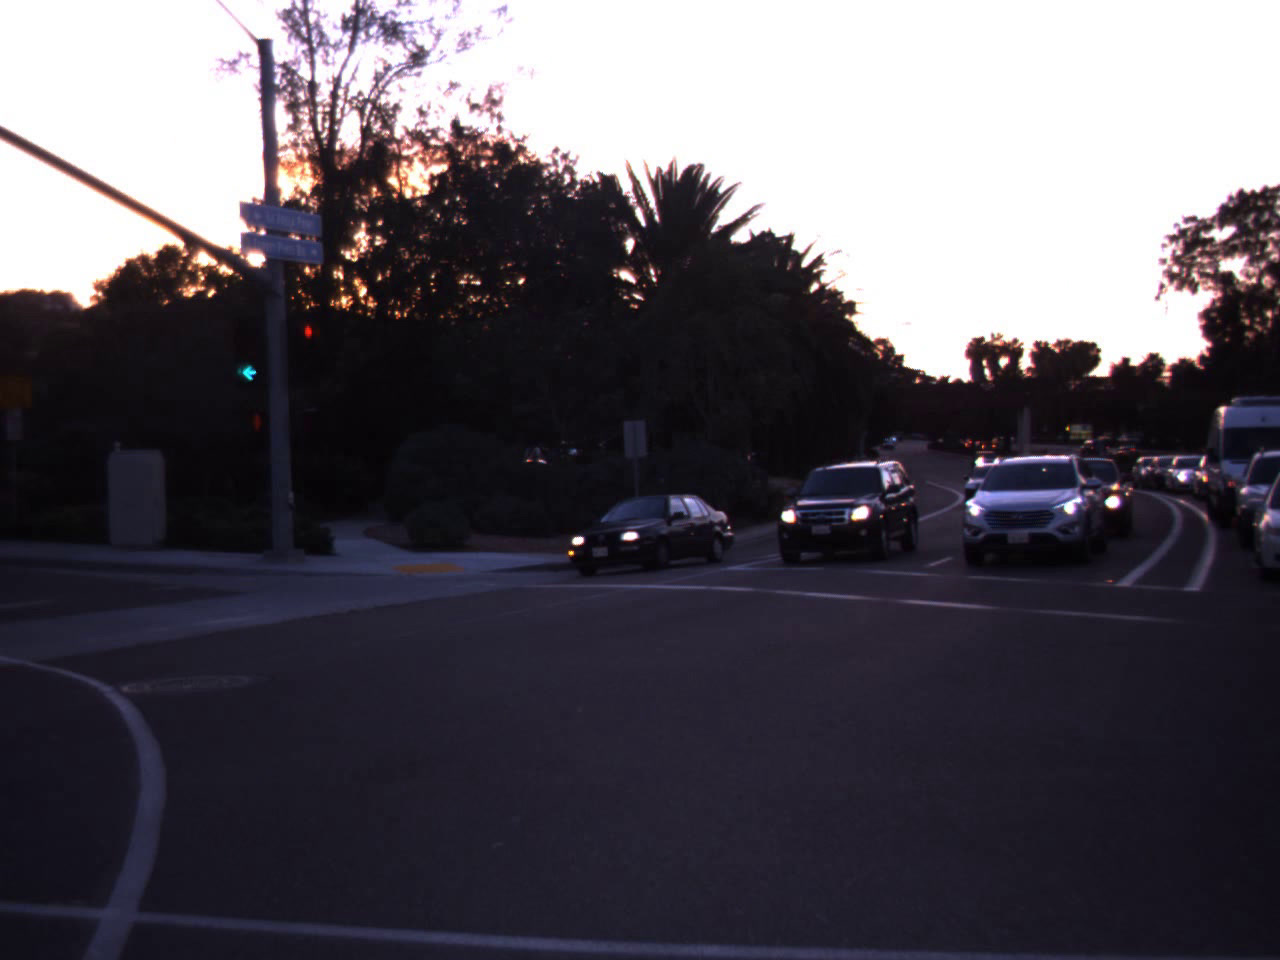go: (219, 303, 276, 388)
